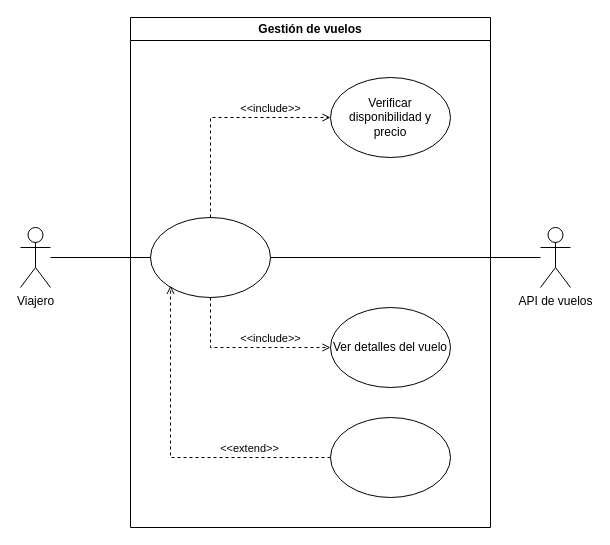
The diagram is 610 pixels wide and 545 high, and some of its shapes have lost their labels. The shapes that lost their labels are listed below. From the top down, each one's centre as x and y in pixels, then its label:
At (x=210, y=257): "Buscar vuelo".
At (x=390, y=457): "Ordenar vuelos".
